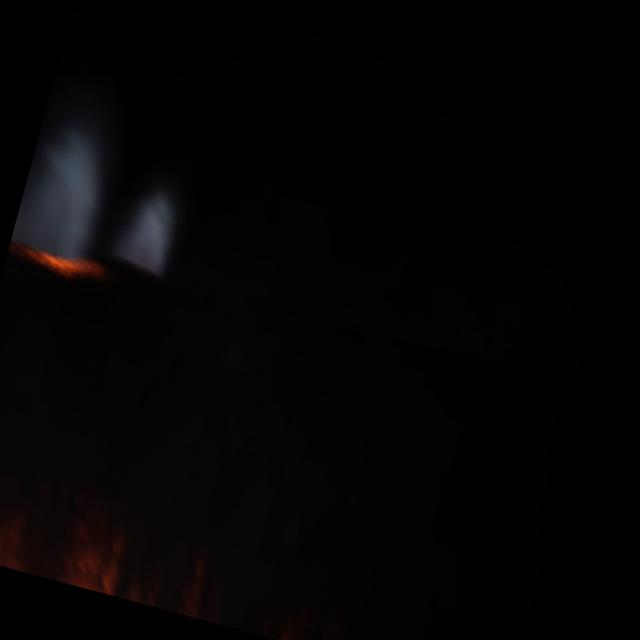smoke: (11, 90, 135, 260), (99, 169, 188, 288)
